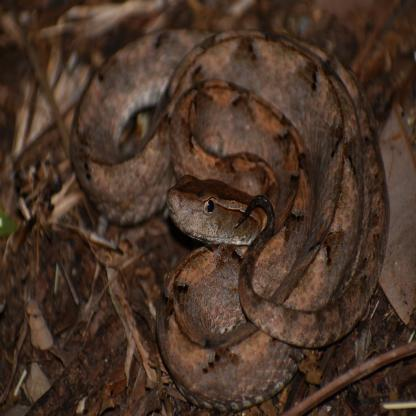Snake: (70, 21, 390, 400)
